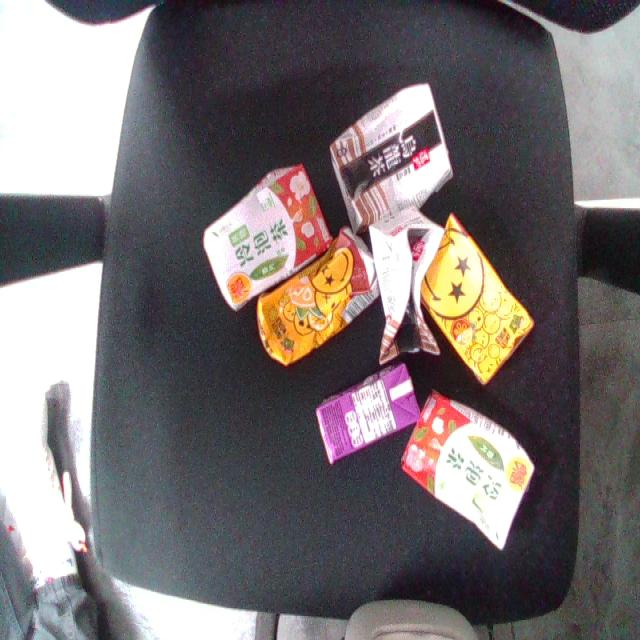juicebox: (366, 377, 569, 569), (374, 197, 561, 399), (165, 141, 364, 327), (295, 70, 483, 243), (222, 217, 408, 385), (296, 352, 442, 475), (368, 199, 449, 375)
